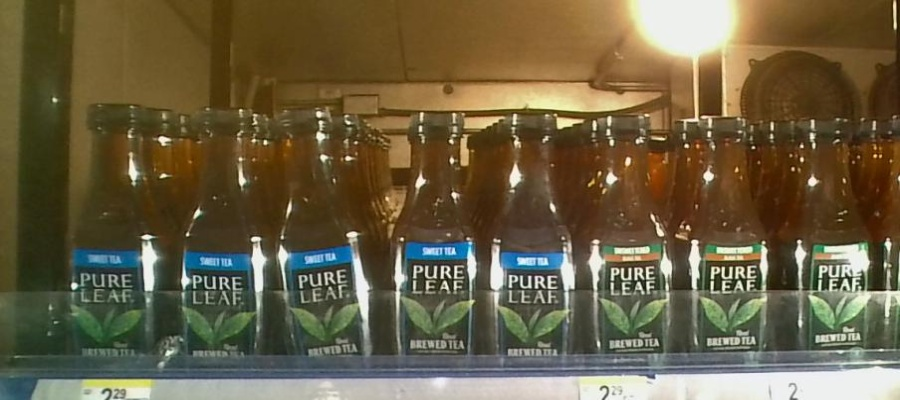bottle: (275, 105, 381, 366), (683, 112, 787, 365), (68, 101, 165, 366), (581, 108, 677, 363), (175, 108, 269, 366), (390, 112, 484, 364), (490, 109, 577, 366), (789, 109, 874, 362)
